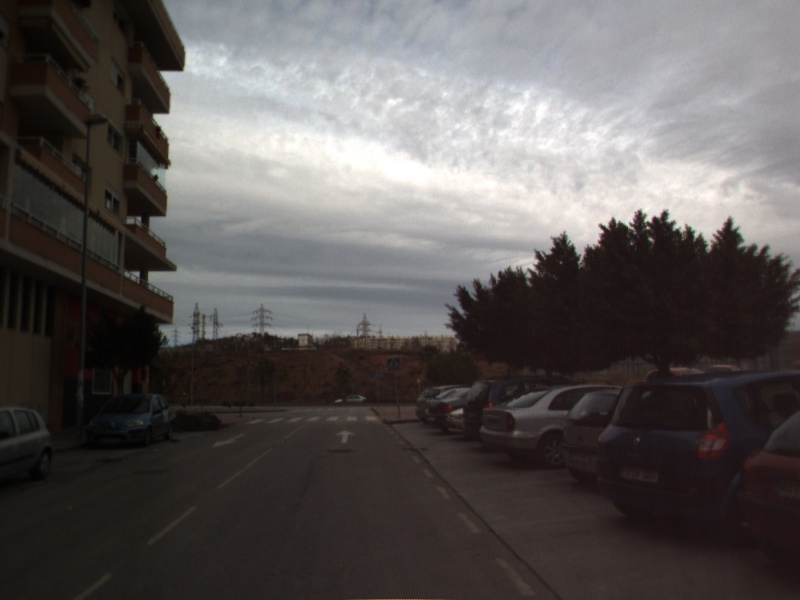STRAIGHT: (334, 428, 358, 445)
